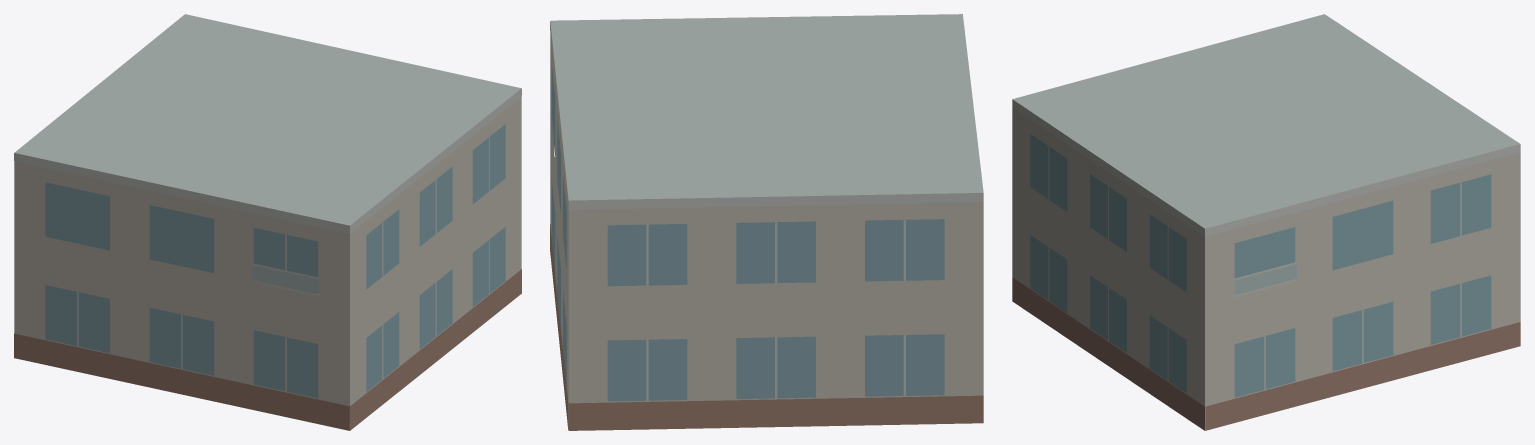
Rendered from survey-upis-32678879.glb.
3 renders of one model, left to right at view 1: azimuth 30°, elevation 25°; view 2: azimuth 150°, elevation 25°; view 3: azimuth 270°, elevation 25°, orthographic. The views are drawn at different scales.
Visible parts, largest first — view 1: survey-upis-32678879.tmp; view 2: survey-upis-32678879.tmp; view 3: survey-upis-32678879.tmp.
Boxes of the visible parts, x1=… form: survey-upis-32678879.tmp: x1=14, y1=14, x2=521, y2=430; survey-upis-32678879.tmp: x1=550, y1=14, x2=983, y2=430; survey-upis-32678879.tmp: x1=1012, y1=14, x2=1520, y2=430.
Size of the model in its own units: 13.91 by 6.1 by 13.91.
